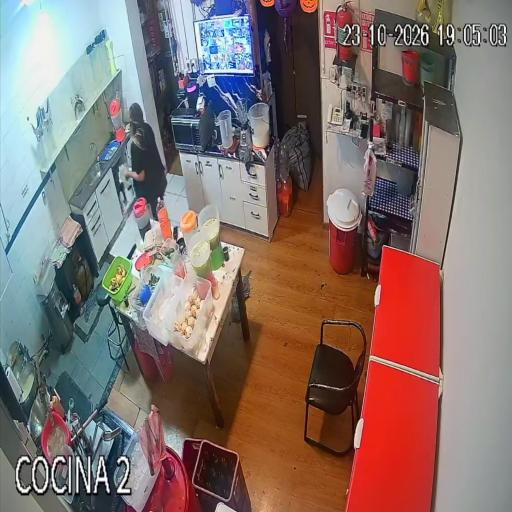Envase Llajua: (47, 395, 64, 417)
Jarra1: (133, 197, 150, 241)
Jarra2: (179, 210, 197, 244)
Jarra3: (218, 110, 234, 149)
Microondas: (171, 104, 214, 151)
Persona3: (125, 103, 166, 216)
Taper2: (130, 272, 154, 312)
Taper3: (143, 272, 183, 345)
Taper4: (163, 274, 214, 359)
